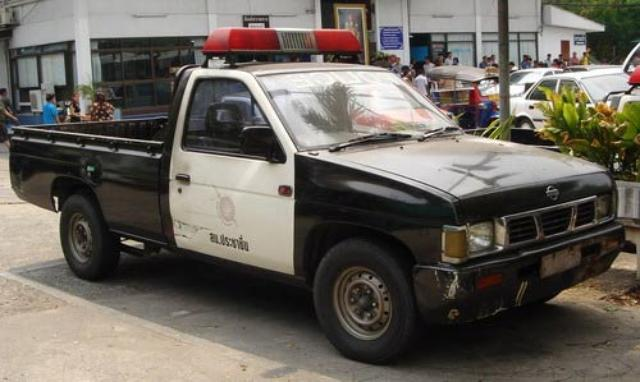pickup-truck: (10, 61, 625, 368)
